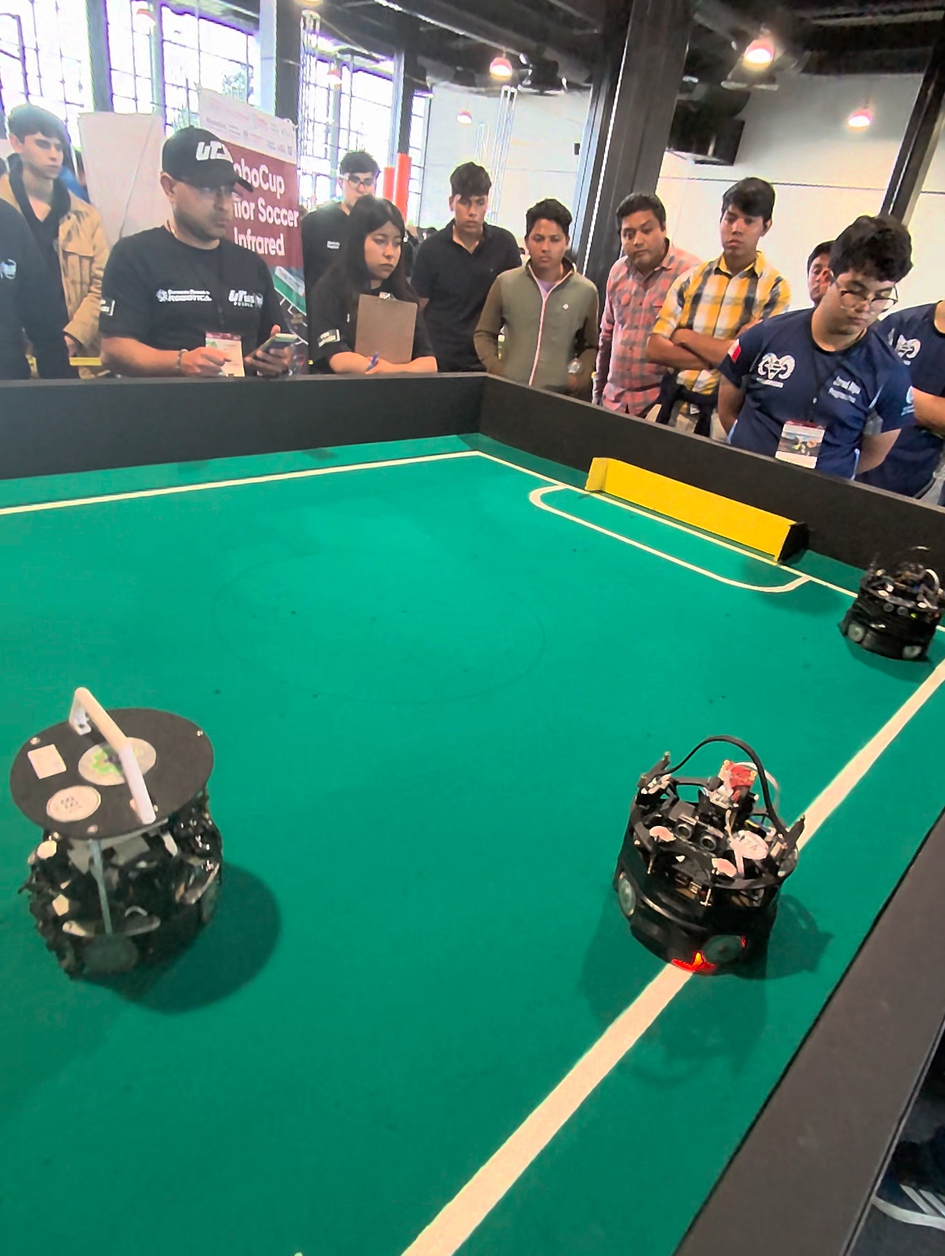Robot: (0, 665, 238, 1013), (619, 720, 814, 990), (845, 541, 945, 674)
